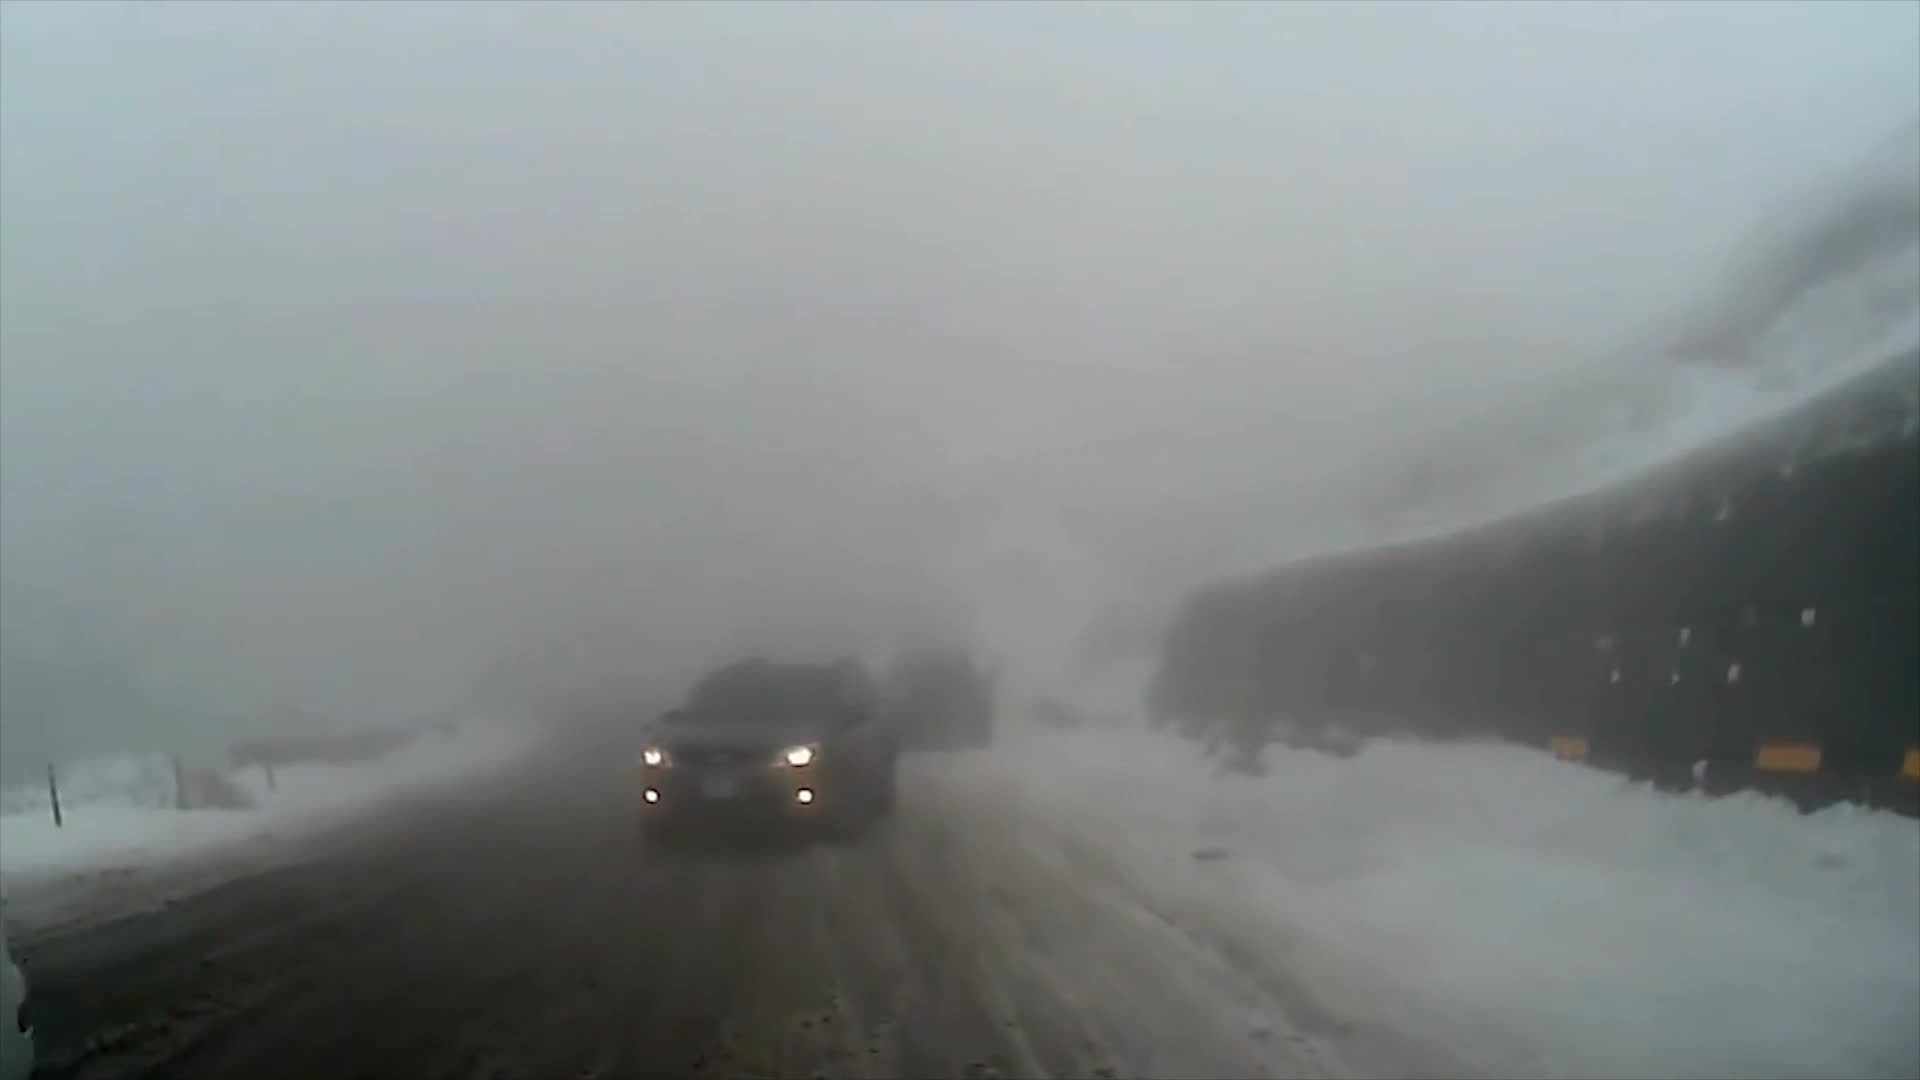vehicle: (636, 655, 898, 851)
